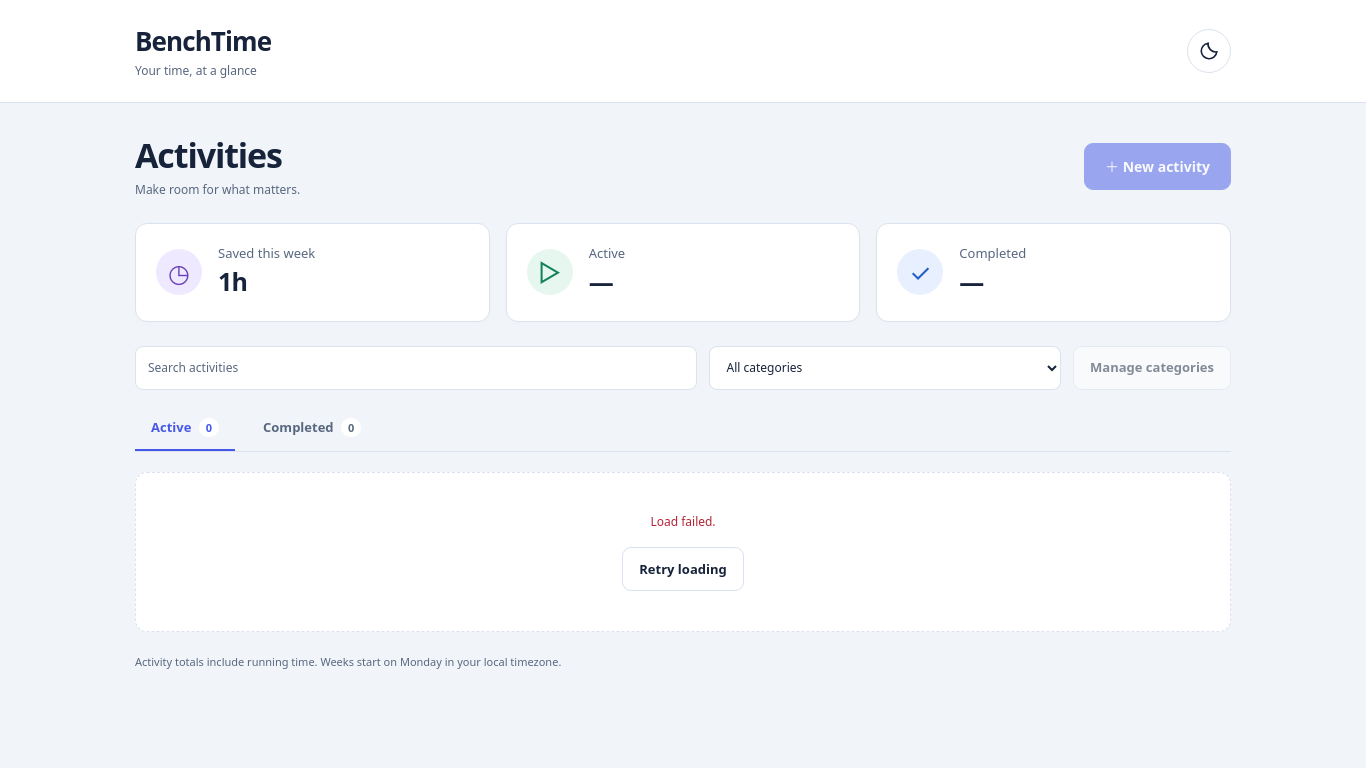
Test case: retries a failed load without claiming the database is empty
Click the button "Retry loading": [683, 569] box [622,547,744,591]
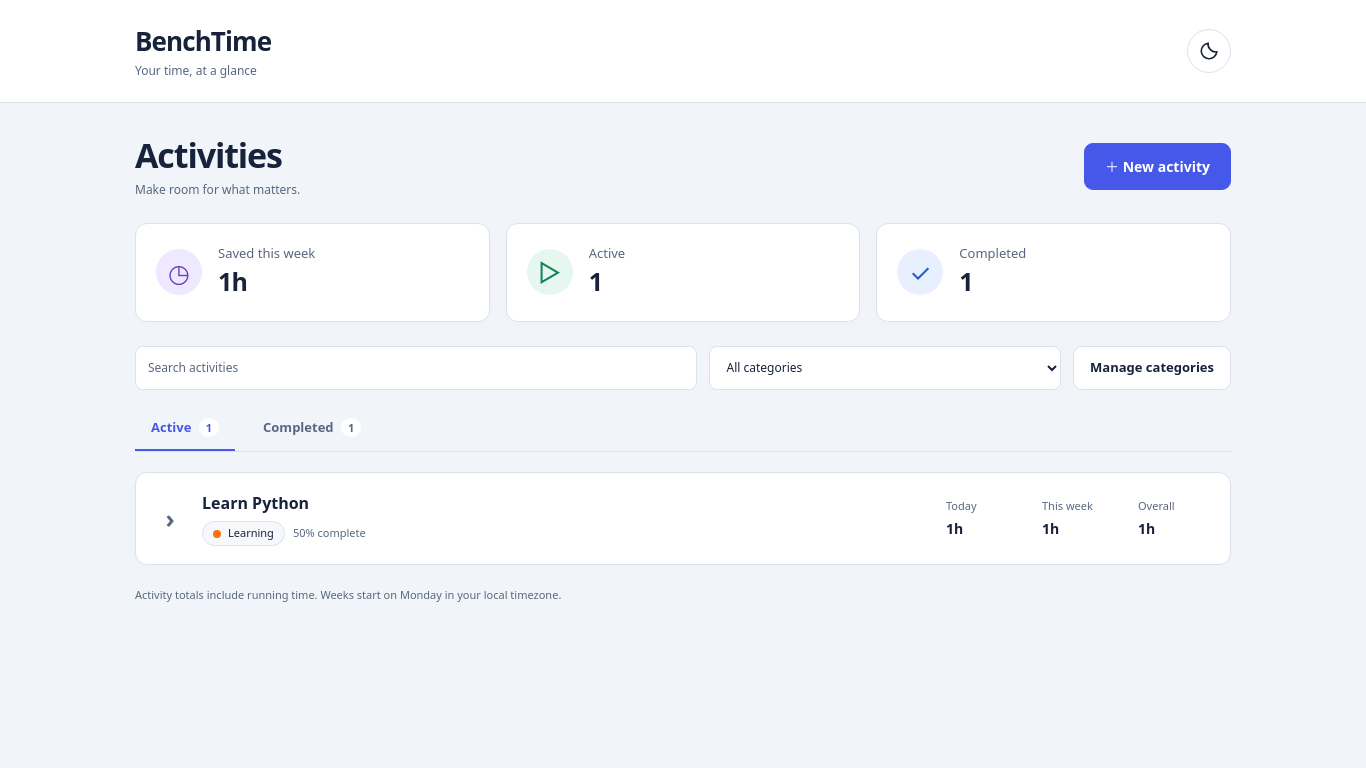
Expected: the element with class "activity-copy" shows "Learn Python", [202,492,309,514]
